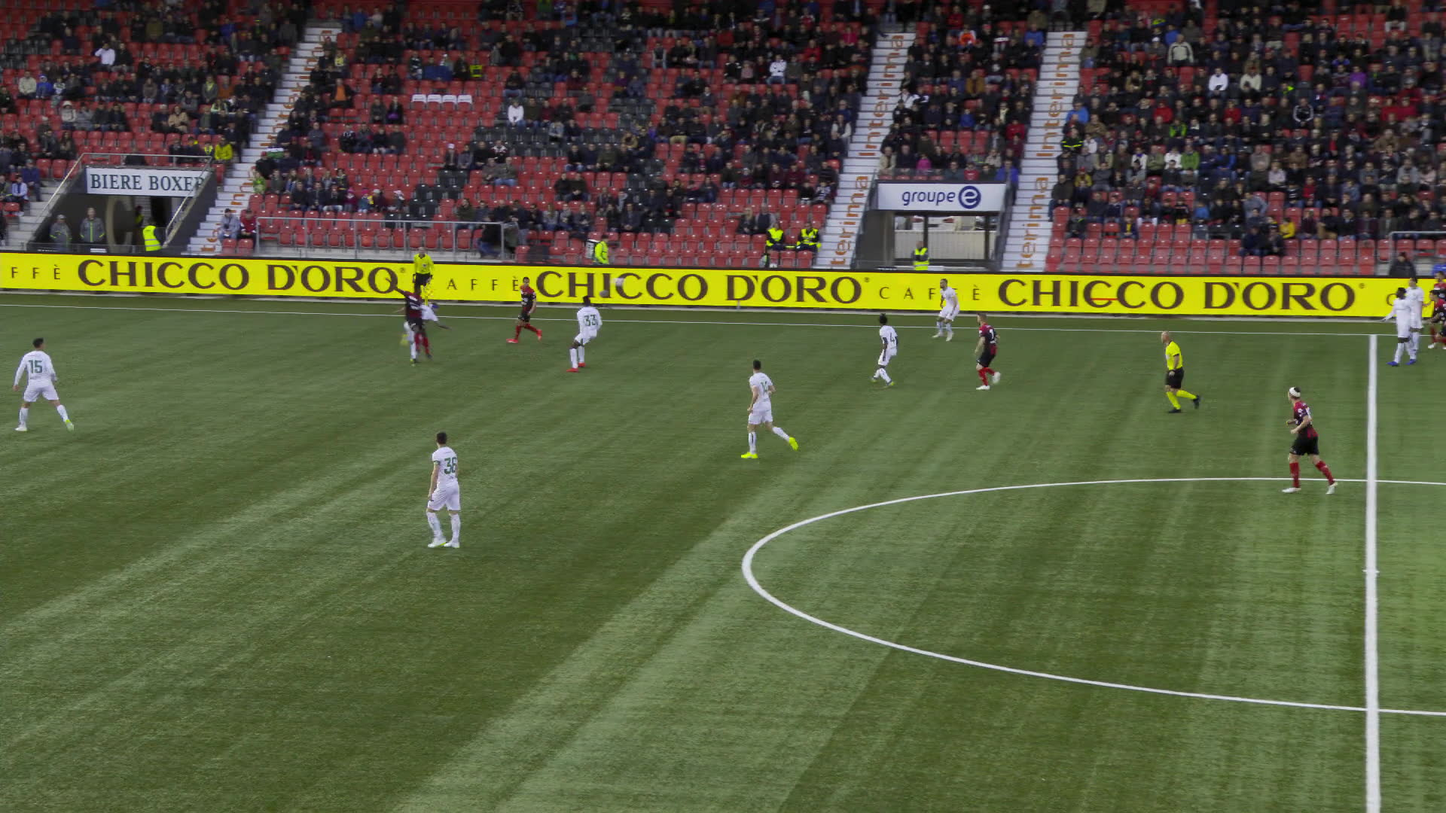ball: (606, 277, 621, 285)
player: (14, 336, 73, 432), (739, 358, 793, 456), (1283, 389, 1332, 494), (423, 432, 463, 546), (966, 312, 1011, 389), (389, 297, 440, 363), (388, 281, 429, 356), (563, 297, 598, 372), (1378, 286, 1411, 365), (513, 276, 541, 343), (874, 313, 898, 387), (1418, 271, 1441, 348), (1398, 277, 1420, 356), (935, 277, 956, 342), (1428, 290, 1445, 343)
referee: (1156, 329, 1202, 412), (408, 247, 432, 309)
